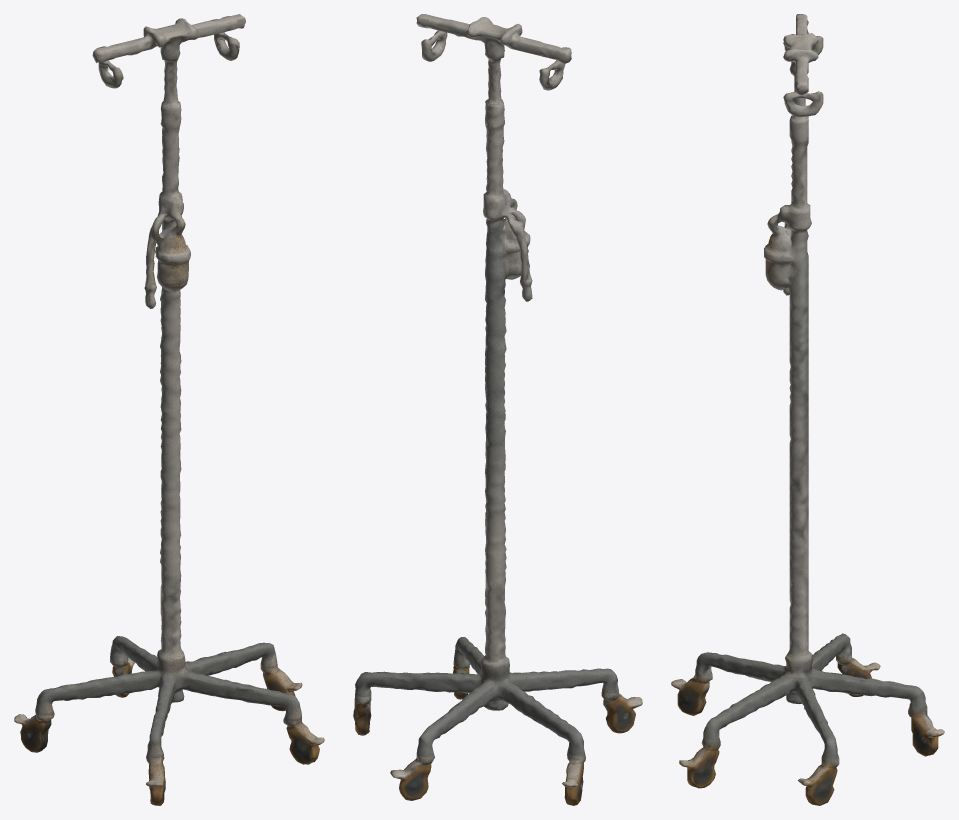
The model's file is IVStand.fbx.
3 renders of one model, left to right at view 1: azimuth 30°, elevation 25°; view 2: azimuth 150°, elevation 25°; view 3: azimuth 270°, elevation 25°, orthographic. The views are drawn at different scales.
Visible parts, largest first — view 1: mesh_node; view 2: mesh_node; view 3: mesh_node.
Part boxes in pixels (x1,y1,x2,y2): mesh_node: (14,14,324,805); mesh_node: (353,14,642,805); mesh_node: (671,14,944,805).
Bounding box in the file's own units: 70.06 × 191 × 66.93.
1 material, 1 textured.
